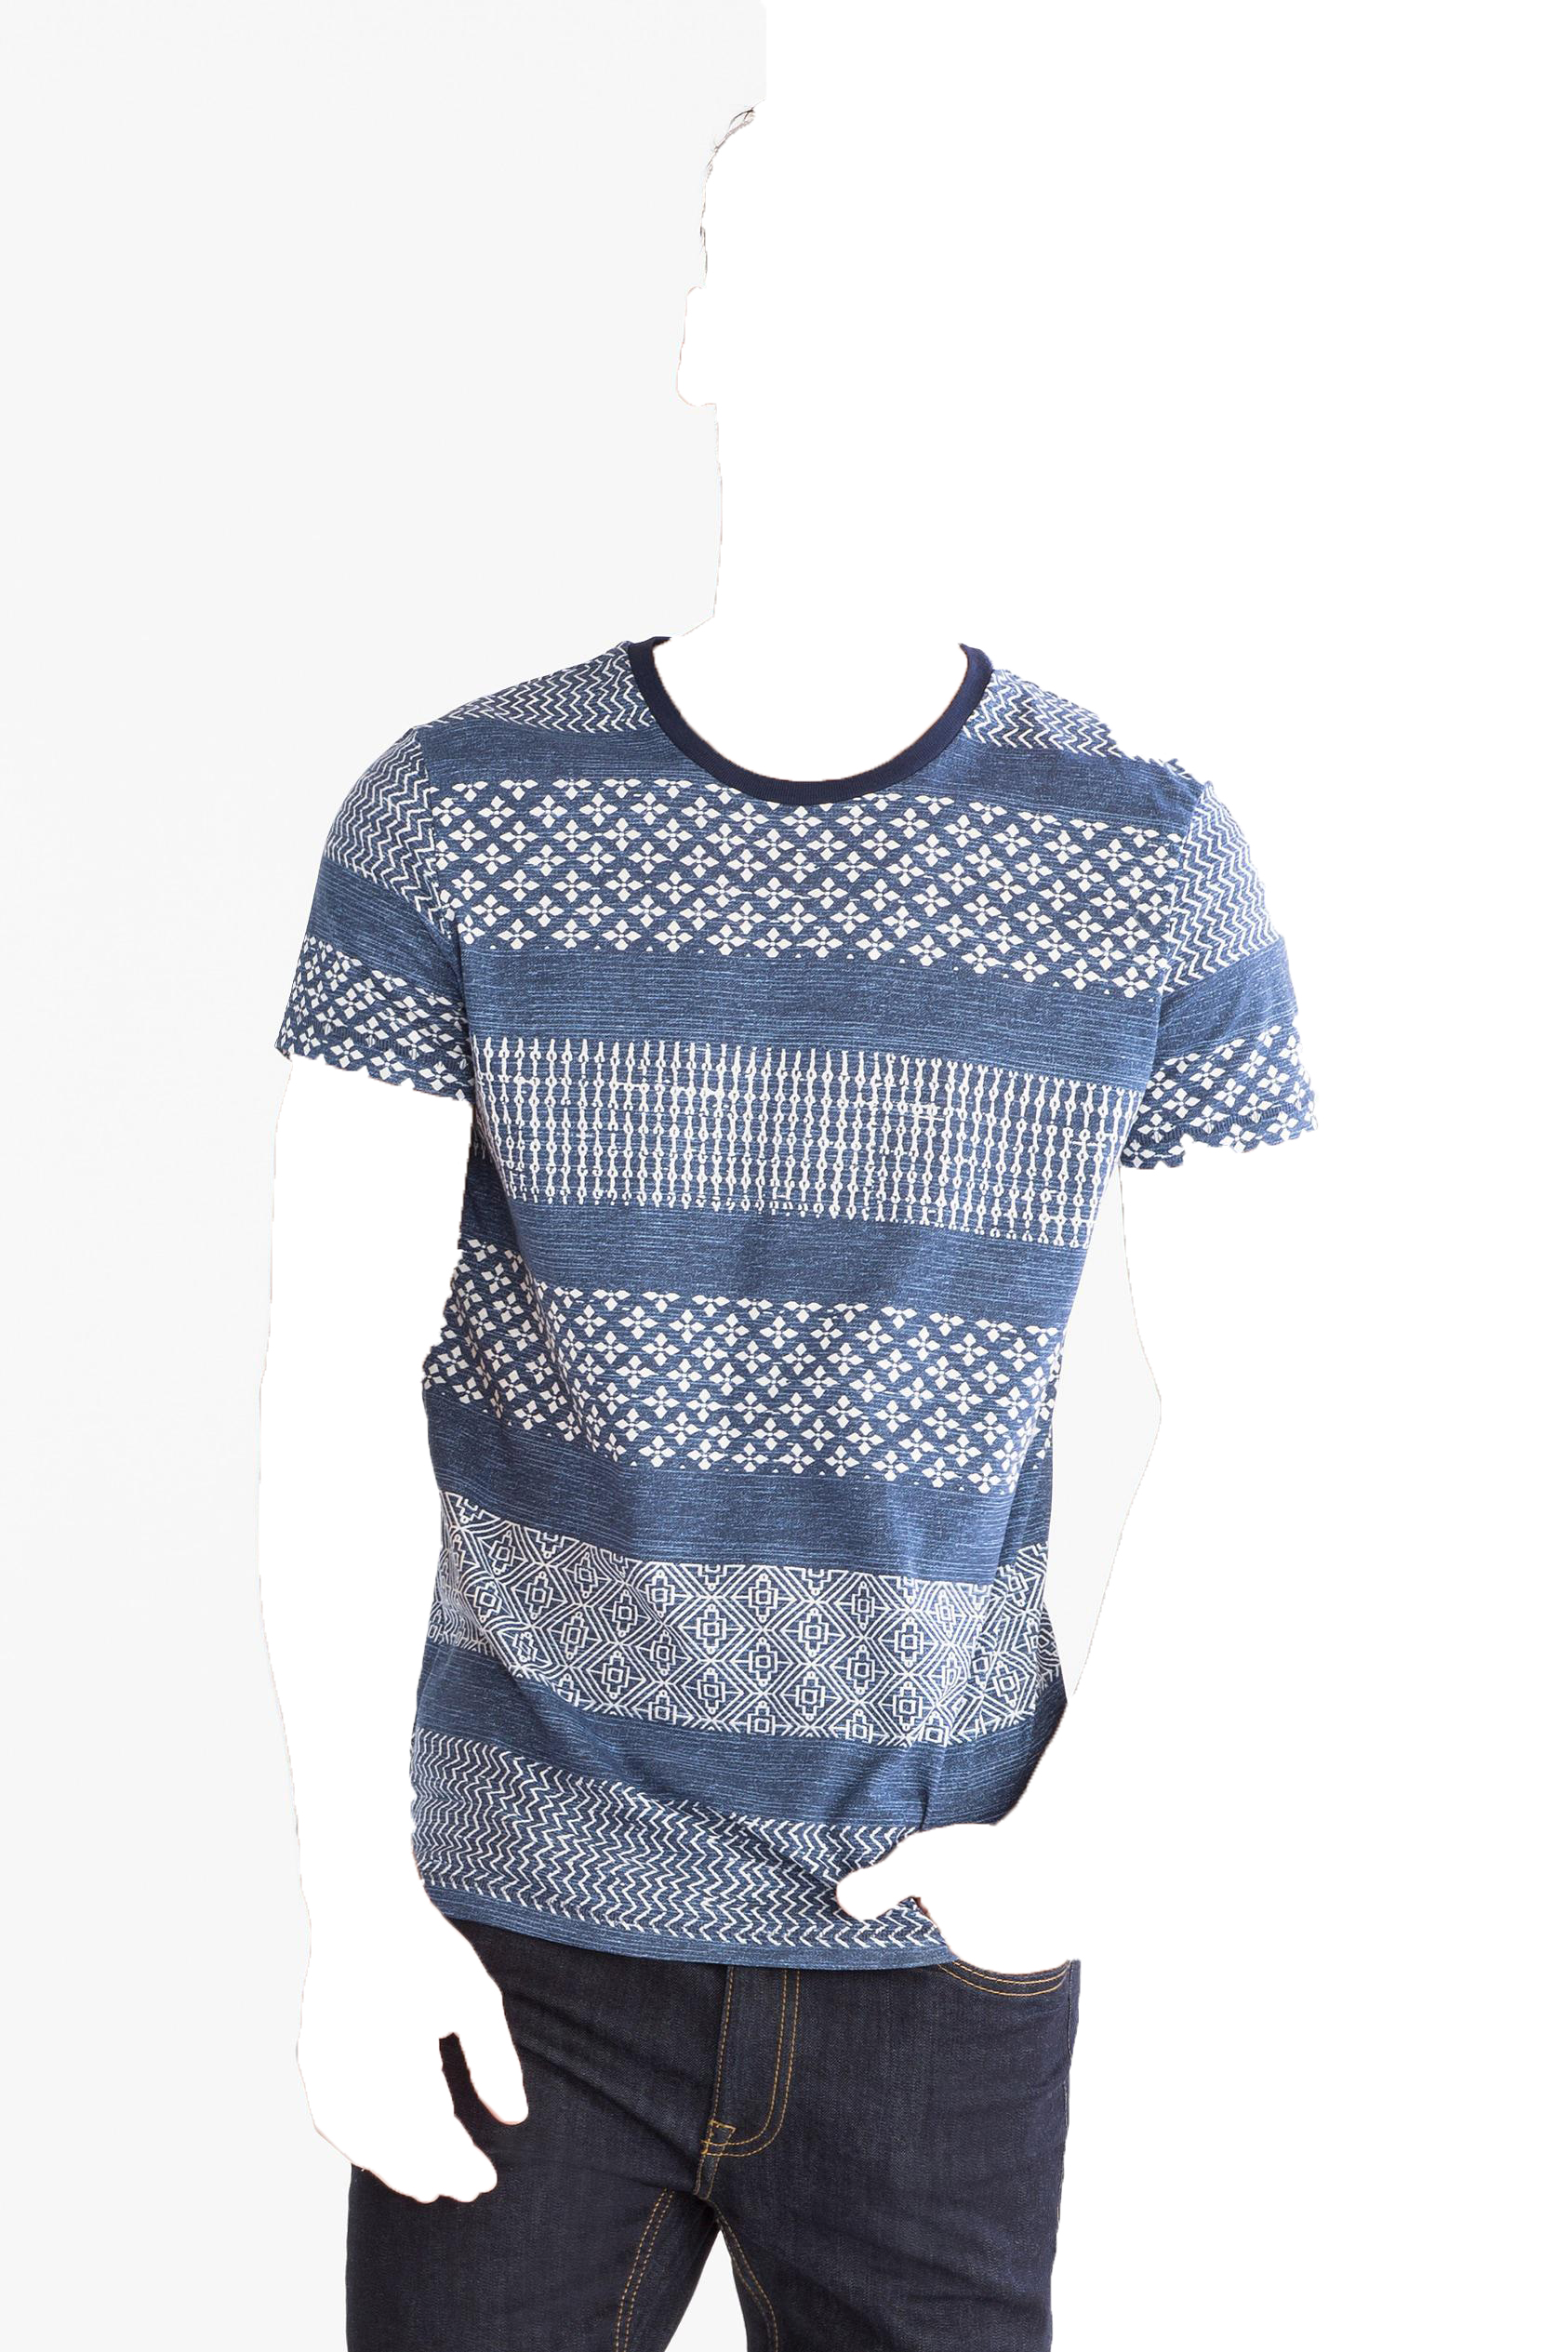teeshirt: (268, 639, 1372, 1984)
